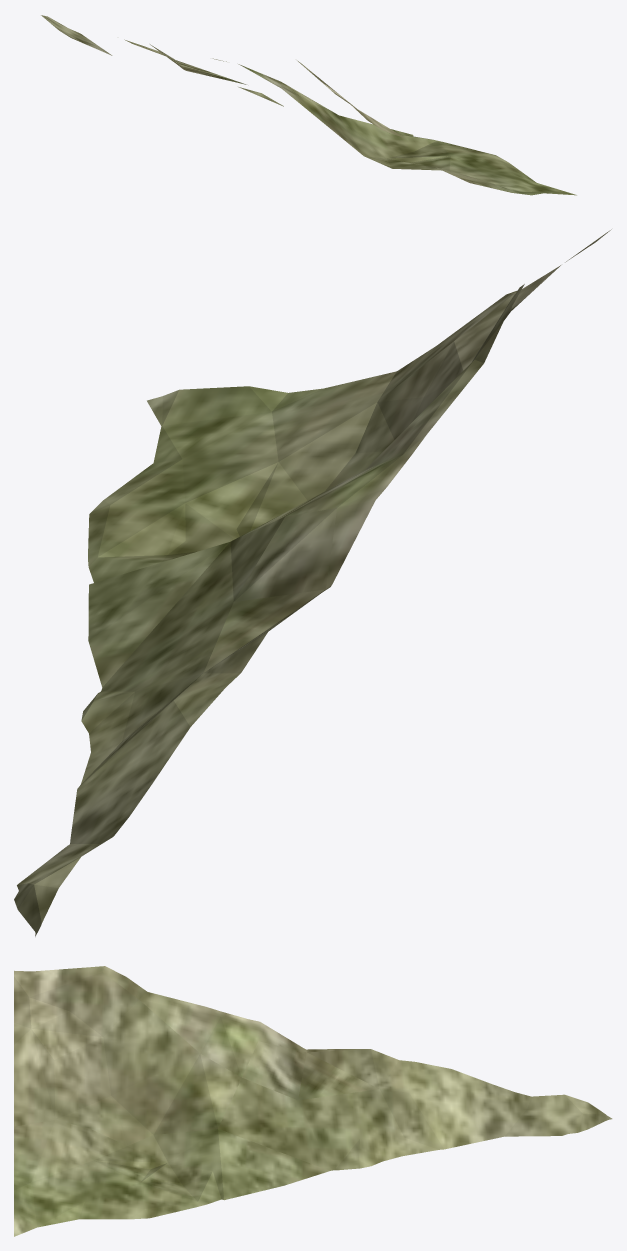
3 views of the same model, one above another, from view 1: azimuth 30°, elevation 25°; view 2: azimuth 150°, elevation 25°; view 3: azimuth 270°, elevation 25° (orthographic). The views are drawn at different scales.
Bounding box in the file's own units: 1.07 × 0.6496 × 2.31.
1 material, 1 textured.
